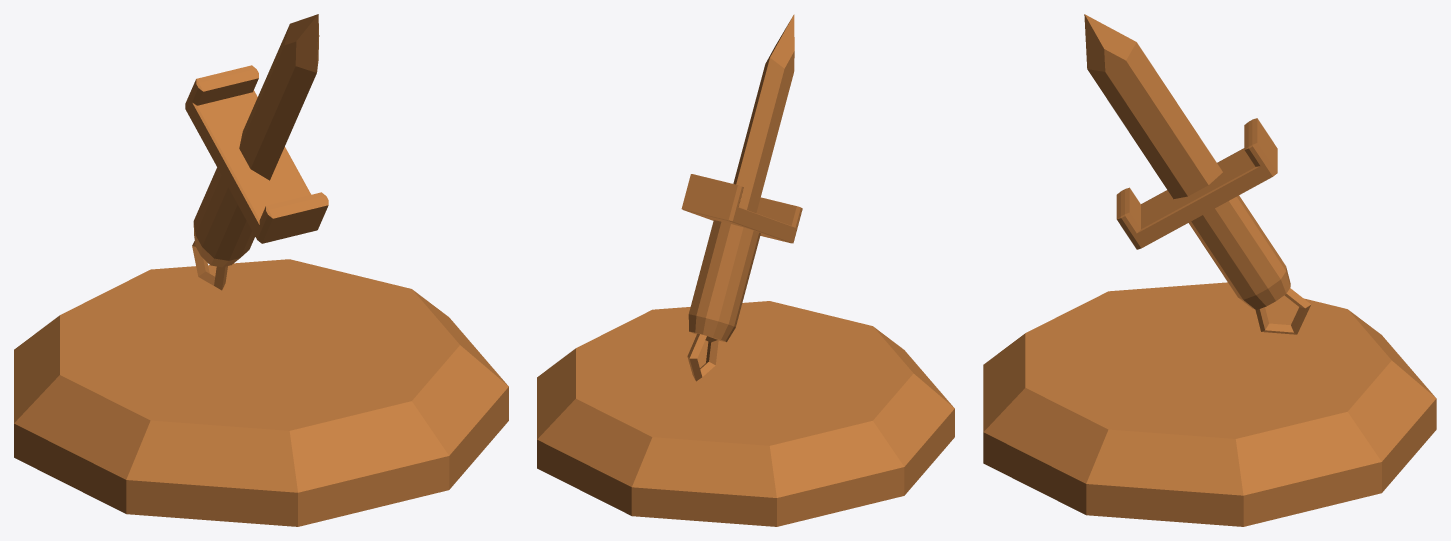
The model's file is Dagger 1.fbx.
The picture shows the model from 3 angles, left to right: view 1: azimuth 30°, elevation 25°; view 2: azimuth 150°, elevation 25°; view 3: azimuth 270°, elevation 25°; orthographic projection. The views are drawn at different scales.
Visible parts, largest first — view 1: Cube.005; view 2: Cube.005; view 3: Cube.005.
Part boxes in pixels (x1,y1,x2,y2): Cube.005: (14, 14, 508, 526); Cube.005: (537, 14, 954, 526); Cube.005: (983, 14, 1436, 526).
Bounding box in the file's own units: 157 × 156 × 154.
